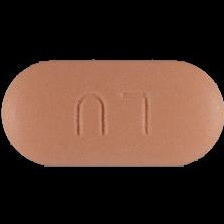68084-756: (0, 0, 224, 224)
